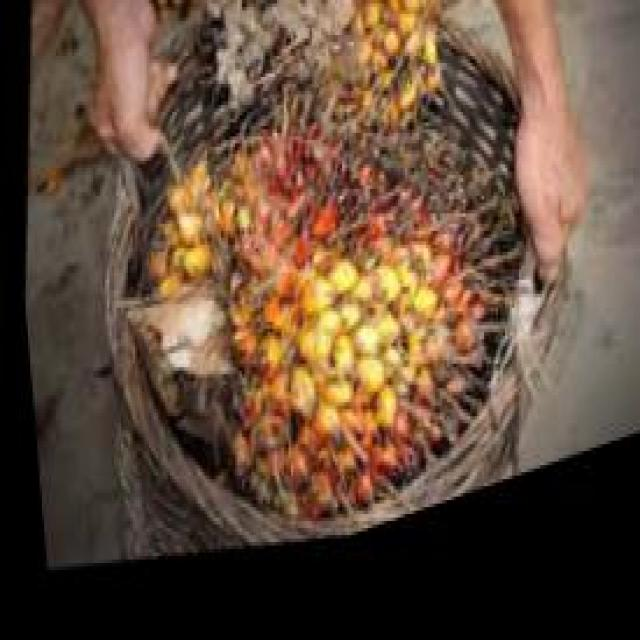Ripefruit: (128, 77, 538, 608), (174, 0, 461, 210)
